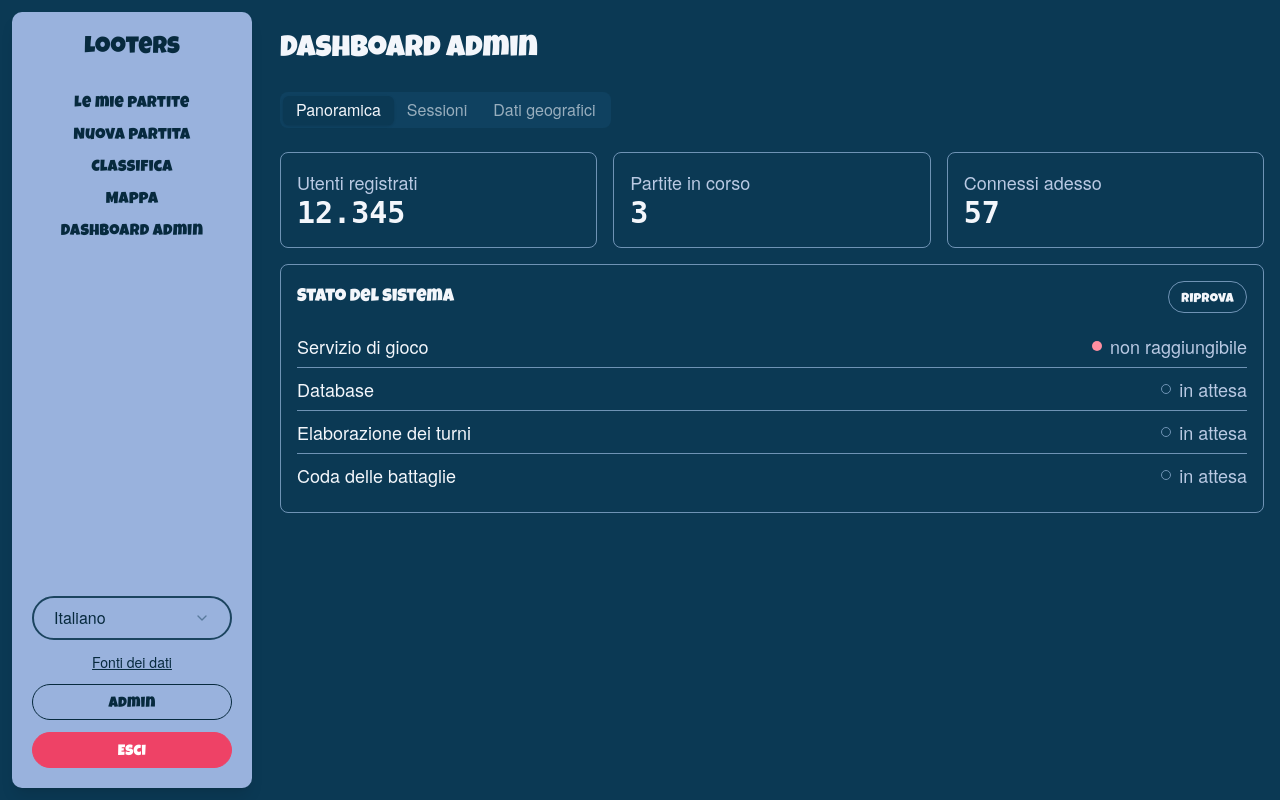
geographic data › creates an area, then shows the tree with the municipalities of each folder
Click the tab "Dati geografici".
click(544, 110)  # box [480, 96, 608, 124]
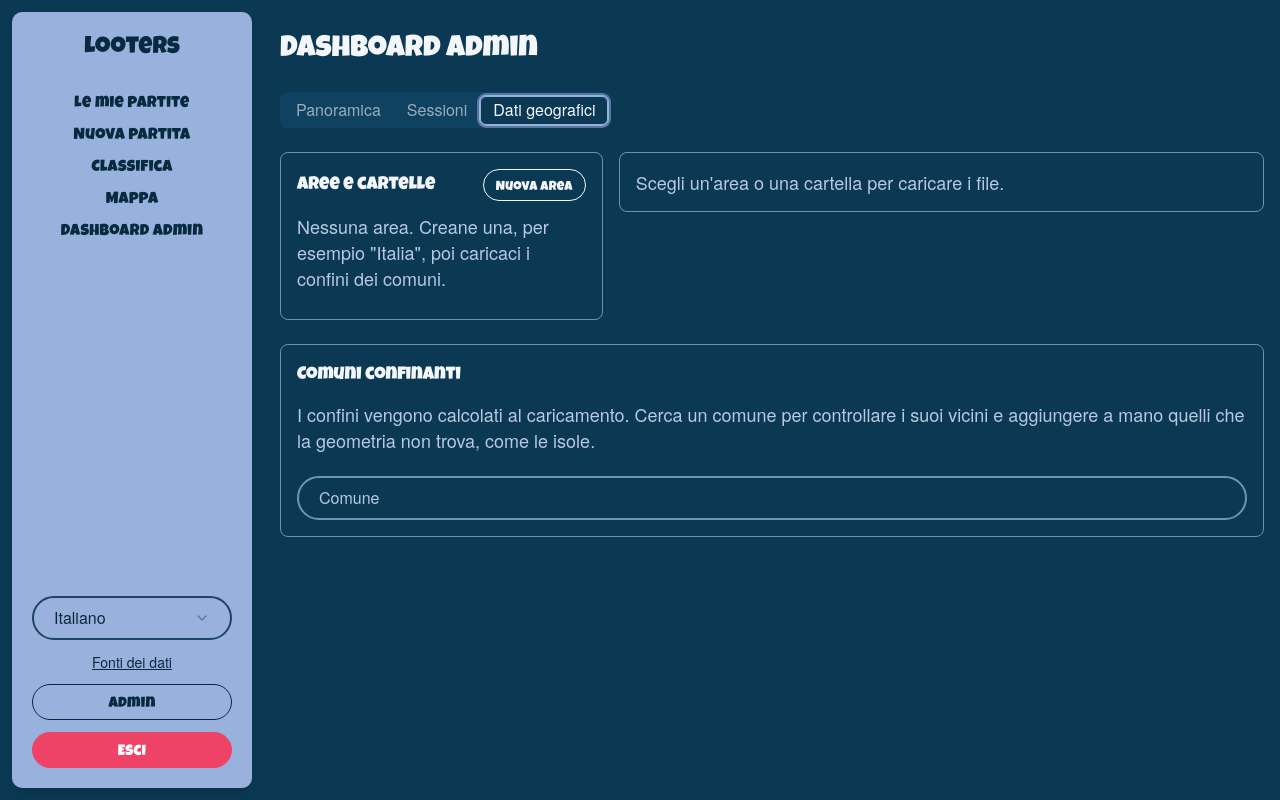
Now the text "Nessuna area" is shown, box [297, 213, 549, 291]
Click the button "Nuova area".
click(534, 185)  # box [483, 169, 586, 201]
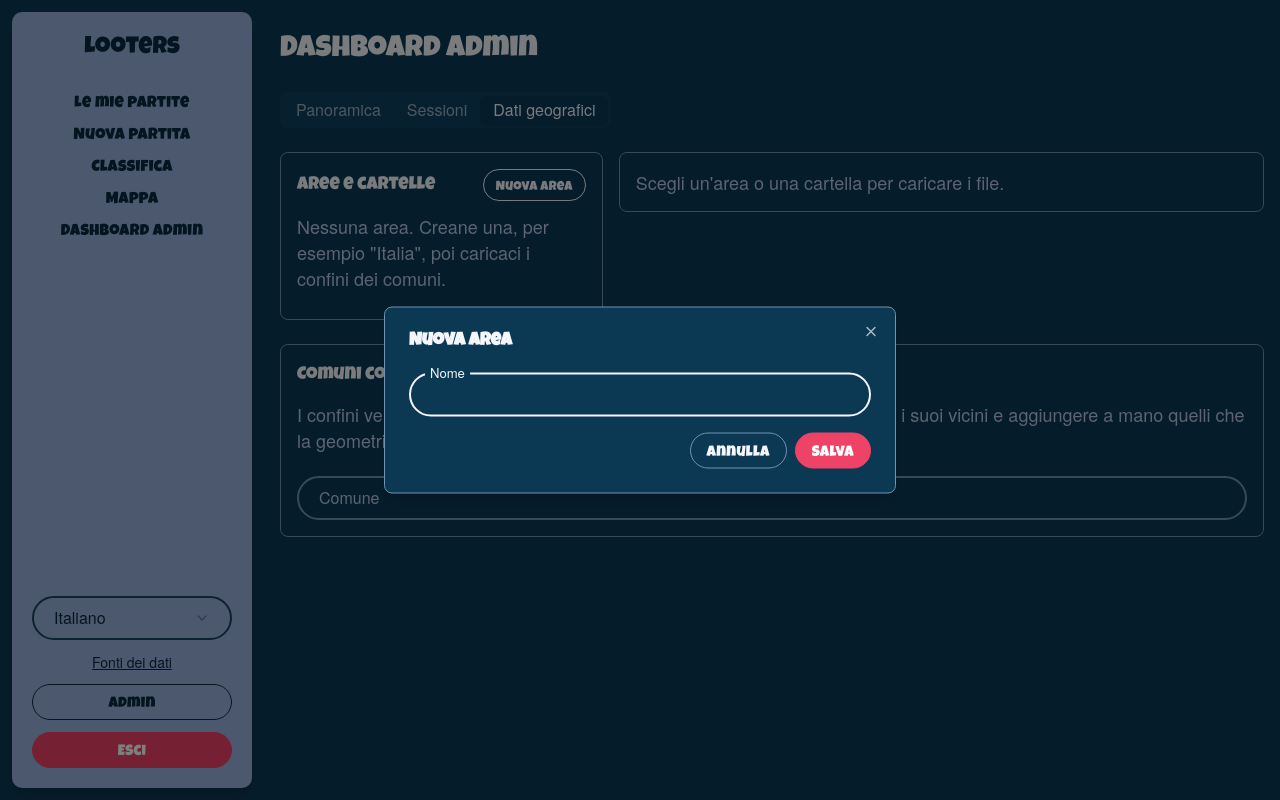
Type "Italia" into the field labelled "Nome".
click(640, 394); type("Italia")  # box [409, 372, 871, 416]
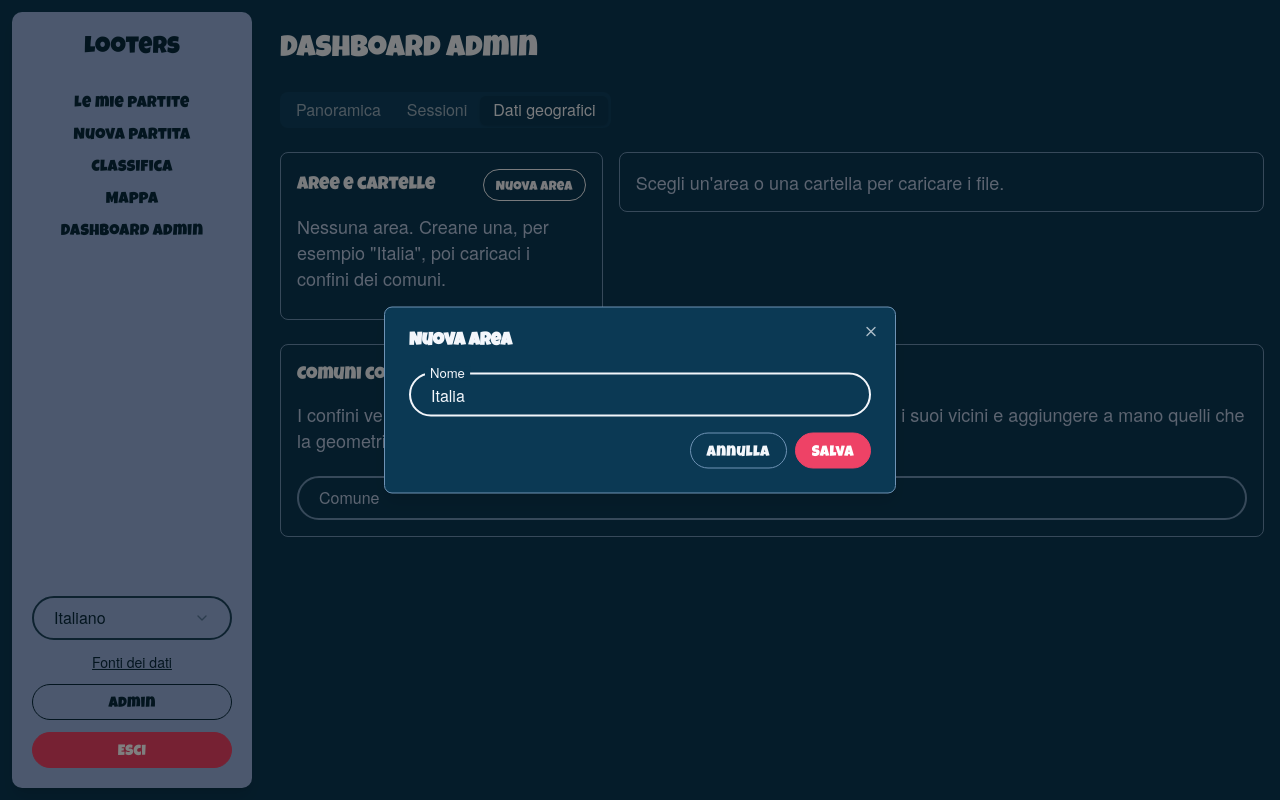
Click the button "Salva".
click(833, 450)  # box [795, 432, 871, 468]
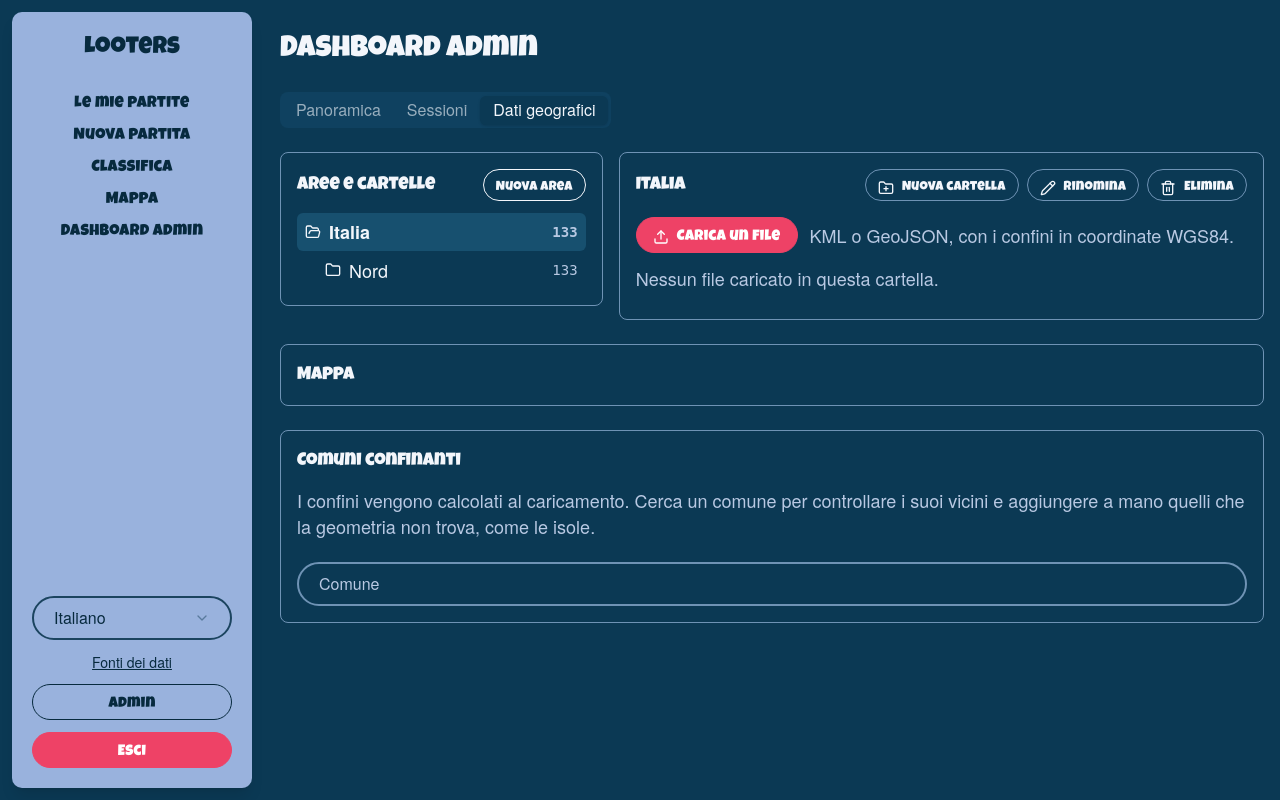
Now the button "Nord 133" is shown, box [297, 251, 586, 289]
Now the text "Nessun file caricato in questa cartella." is shown, box [636, 265, 939, 291]
